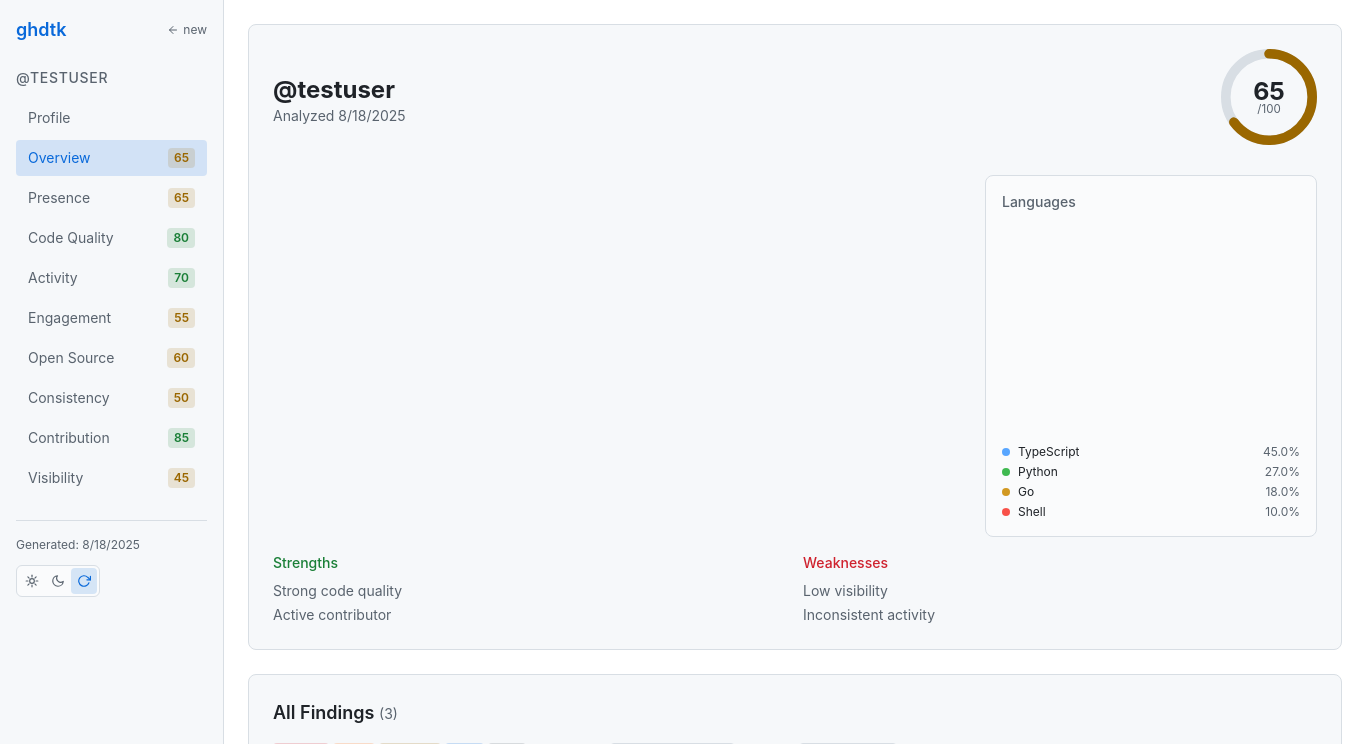
Test: Dashboard › renders the profile page when Profile tab is selected
This screenshot has width=1366, height=744.
Click the button "Profile": (112, 118) [16,100,207,136]
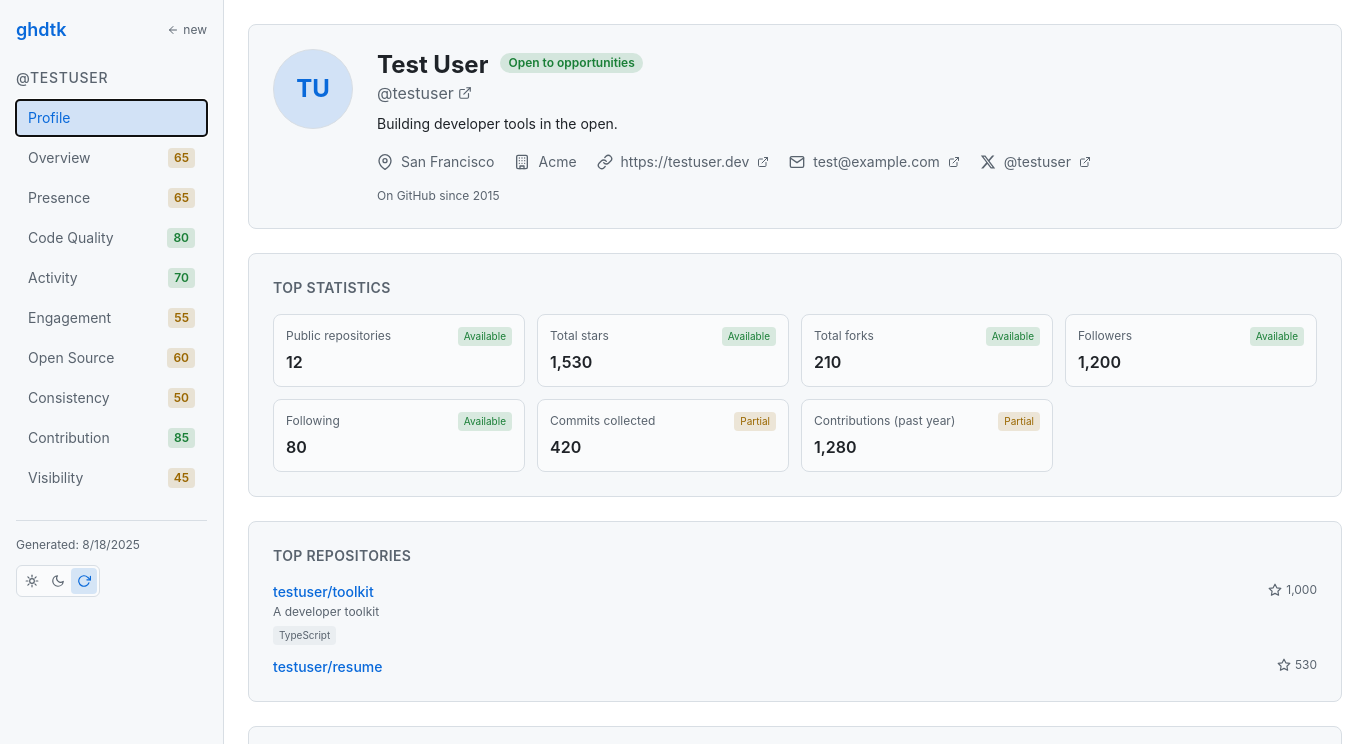
Result: the heading "Test User" is shown at [377,49,488,81]
